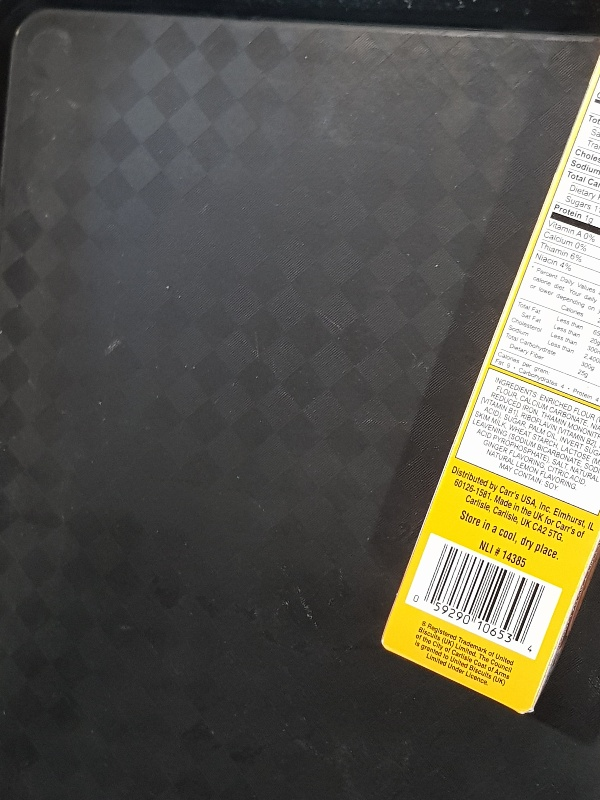Carr's Ginger Lemon Cremes: (380, 53, 600, 717)
